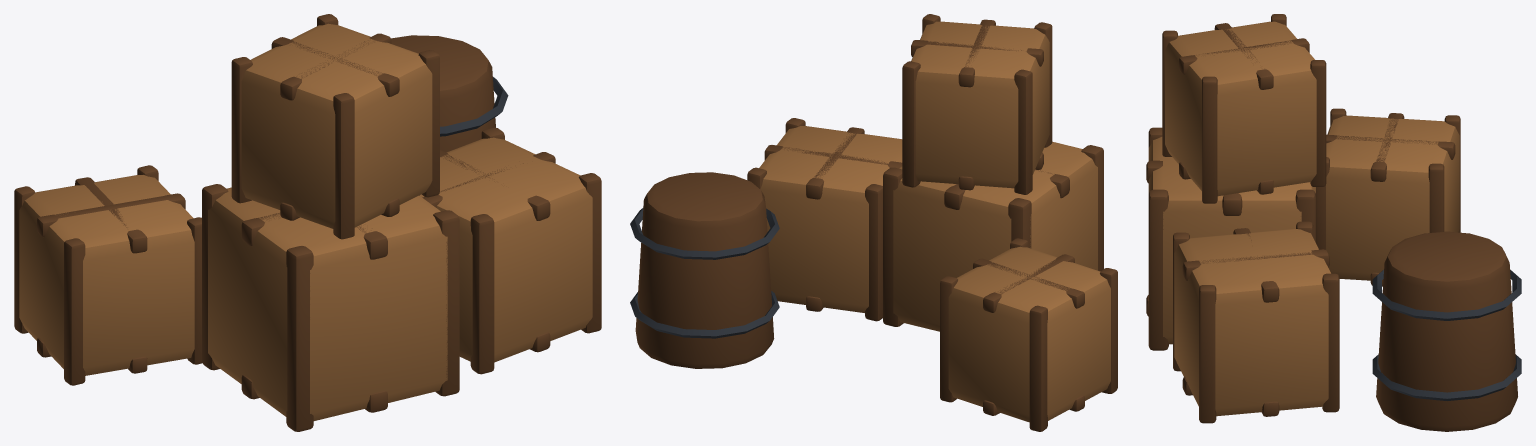
The model's file is CrateStack.fbx.
3 views of the same model, side by side, from view 1: azimuth 30°, elevation 25°; view 2: azimuth 150°, elevation 25°; view 3: azimuth 270°, elevation 25° (orthographic). The views are drawn at different scales.
Parts seen in each view (by area): view 1: CrateStack; view 2: CrateStack; view 3: CrateStack.
Boxes of the visible parts, bbox=[...] form: CrateStack: bbox=[14, 14, 601, 431]; CrateStack: bbox=[630, 14, 1117, 431]; CrateStack: bbox=[1146, 14, 1521, 431].
Size of the model in its own units: 2.08 by 1.27 by 1.57.
